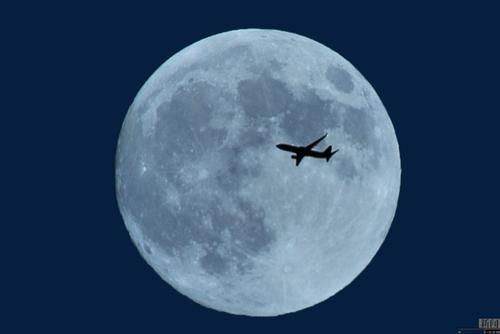moon: (113, 28, 401, 318)
